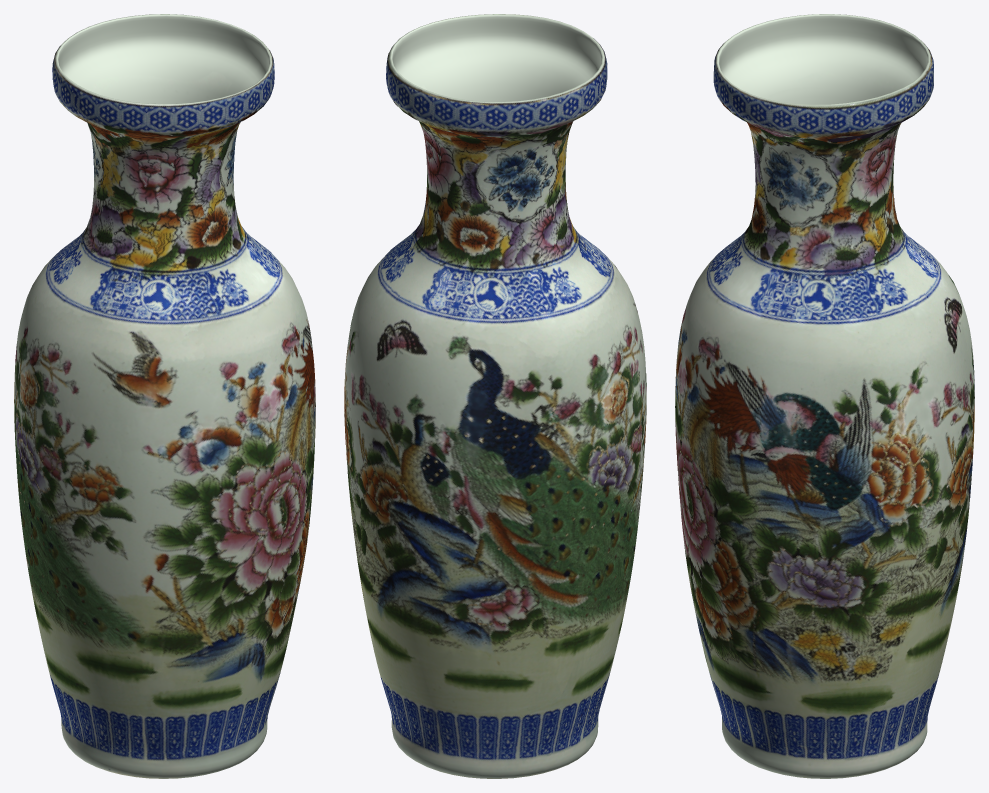
File: Jarron.gltf
The picture shows the model from 3 angles, left to right: view 1: azimuth 30°, elevation 25°; view 2: azimuth 150°, elevation 25°; view 3: azimuth 270°, elevation 25°; orthographic projection.
Parts seen in each view (by area): view 1: Vase_obj1; view 2: Vase_obj1; view 3: Vase_obj1.
Boxes of the visible parts, x1,y1,x2,y2 form: Vase_obj1: [14, 14, 315, 778]; Vase_obj1: [344, 14, 646, 778]; Vase_obj1: [675, 14, 974, 778].
Size of the model in its own units: 19.06 by 47.58 by 18.97.
